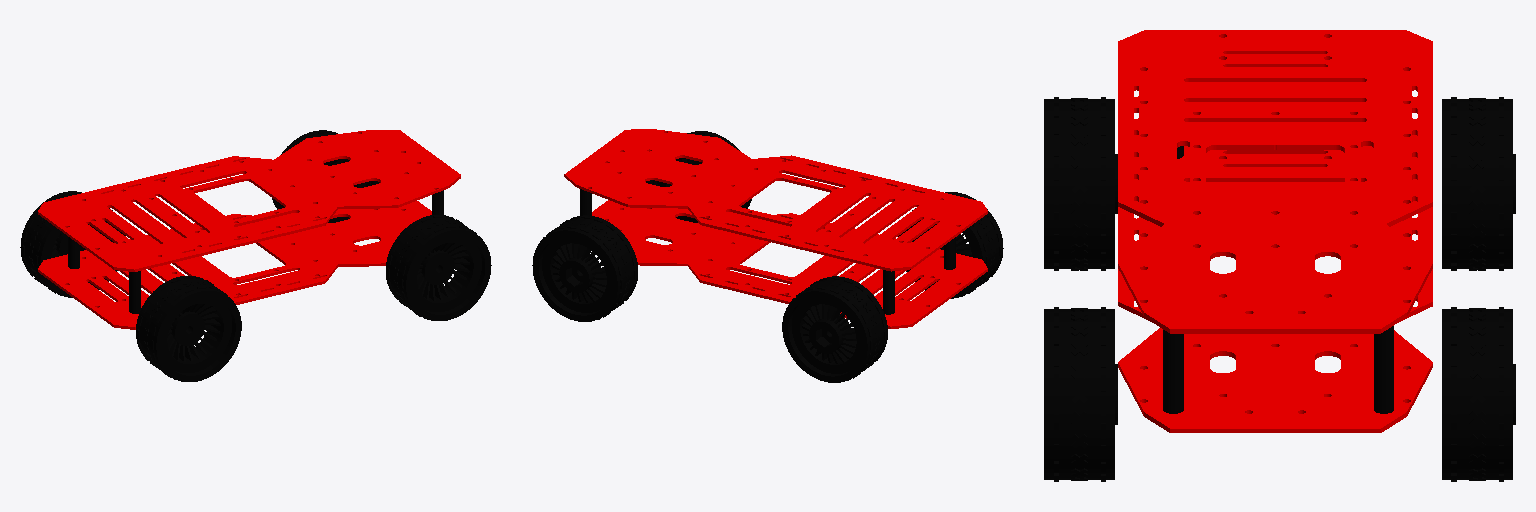
The robot description file, URDF, robot "ackermann_robot":
<?xml version="1.0" ?>
<!-- =================================================================================== -->
<!-- |    This document was autogenerated by xacro from src/ackermann_robot/urdf/ackermann_robot.xacro | -->
<!-- |    EDITING THIS FILE BY HAND IS NOT RECOMMENDED                                 | -->
<!-- =================================================================================== -->
<robot name="ackermann_robot">
  <!-- ===================== -->
  <!-- Real hardware values  -->
  <!-- ===================== -->
  <!-- Materials -->
  <material name="chassis_black">
    <color rgba="1.0 0.0 0.0 1"/>
  </material>
  <material name="wheel_black">
    <color rgba="0.05 0.05 0.05 1"/>
  </material>
  <!-- ===================== -->
  <!-- Base frame            -->
  <!-- ===================== -->
  <!-- Robot center reference -->
  <link name="base_link"/>
  <!-- ===================== -->
  <!-- Chassis               -->
  <!-- ===================== -->
  <link name="chassis_link">
    <inertial>
      <origin xyz="0 0 0"/>
      <mass value="0.126"/>
      <inertia ixx="0.002" ixy="0" ixz="0" iyy="0.002" iyz="0" izz="0.002"/>
    </inertial>
    <!-- Bottom plate -->
    <visual>
      <origin rpy="0 0 1.5708" xyz="-0.0027 -0.001205 0.0385"/>
      <geometry>
        <mesh filename="package://ackermann_robot/meshes/chassis_visual.stl" scale="0.001 0.001 0.001"/>
      </geometry>
      <material name="chassis_black"/>
    </visual>
    <!-- Top plate -->
    <visual>
      <origin rpy="0 0 1.5708" xyz="-0.0027 -0.001205 0.0805"/>
      <geometry>
        <mesh filename="package://ackermann_robot/meshes/chassis_visual.stl" scale="0.001 0.001 0.001"/>
      </geometry>
      <material name="chassis_black"/>
    </visual>
    <!-- Front left standoff -->
    <visual>
      <origin rpy="0 0 0" xyz="0.115 0.040249999999999994 0.0595"/>
      <geometry>
        <cylinder length="0.04" radius="0.004"/>
      </geometry>
      <material name="wheel_black"/>
    </visual>
    <!-- Front right -->
    <visual>
      <origin rpy="0 0 0" xyz="0.115 -0.040249999999999994 0.0595"/>
      <geometry>
        <cylinder length="0.04" radius="0.004"/>
      </geometry>
      <material name="wheel_black"/>
    </visual>
    <!-- Rear left -->
    <visual>
      <origin rpy="0 0 0" xyz="-0.115 0.040249999999999994 0.0595"/>
      <geometry>
        <cylinder length="0.04" radius="0.004"/>
      </geometry>
      <material name="wheel_black"/>
    </visual>
    <!-- Rear right -->
    <visual>
      <origin rpy="0 0 0" xyz="-0.115 -0.040249999999999994 0.0595"/>
      <geometry>
        <cylinder length="0.04" radius="0.004"/>
      </geometry>
      <material name="wheel_black"/>
    </visual>
    <!-- Collision: simple box for stable physics -->
    <collision>
      <origin xyz="0 0 0.001"/>
      <geometry>
        <box size="0.27 0.1205 0.002"/>
      </geometry>
    </collision>
  </link>
  <!-- base → chassis -->
  <joint name="base_to_chassis" type="fixed">
    <parent link="base_link"/>
    <child link="chassis_link"/>
    <origin rpy="0 0 0" xyz="0 0 0.0375"/>
  </joint>
  <!-- ===================== -->
  <!-- Wheel placement       -->
  <!-- ===================== -->
  <!-- Wheel -->
  <link name="rear_left_wheel_link">
    <inertial>
      <mass value="0.05"/>
      <inertia ixx="3e-5" ixy="0" ixz="0" iyy="3e-5" iyz="0" izz="3e-5"/>
    </inertial>
    <visual>
      <origin rpy="1.5708 0 0"/>
      <geometry>
        <mesh filename="package://ackermann_robot/meshes/wheel_visual.stl" scale="0.001 0.001 0.001"/>
      </geometry>
      <material name="wheel_black"/>
    </visual>
    <collision>
      <origin rpy="1.5708 0 0"/>
      <geometry>
        <cylinder length="0.03" radius="0.0375"/>
      </geometry>
    </collision>
  </link>
  <!-- Gazebo friction for wheels -->
  <gazebo reference="rear_left_wheel_link">
    <mu1>0.8</mu1>
    <mu2>0.8</mu2>
    <kp>1000000.0</kp>
    <kd>100.0</kd>
  </gazebo>
  <joint name="rear_left_wheel_joint" type="continuous">
    <parent link="chassis_link"/>
    <child link="rear_left_wheel_link"/>
    <origin xyz="-0.095 0.076 0.0375"/>
    <axis xyz="0 0 1"/>
    <limit effort="10" velocity="10"/>
  </joint>
  <!-- Wheel -->
  <link name="rear_right_wheel_link">
    <inertial>
      <mass value="0.05"/>
      <inertia ixx="3e-5" ixy="0" ixz="0" iyy="3e-5" iyz="0" izz="3e-5"/>
    </inertial>
    <visual>
      <origin rpy="1.5708 0 0"/>
      <geometry>
        <mesh filename="package://ackermann_robot/meshes/wheel_visual.stl" scale="0.001 0.001 0.001"/>
      </geometry>
      <material name="wheel_black"/>
    </visual>
    <collision>
      <origin rpy="1.5708 0 0"/>
      <geometry>
        <cylinder length="0.03" radius="0.0375"/>
      </geometry>
    </collision>
  </link>
  <!-- Gazebo friction for wheels -->
  <gazebo reference="rear_right_wheel_link">
    <mu1>0.8</mu1>
    <mu2>0.8</mu2>
    <kp>1000000.0</kp>
    <kd>100.0</kd>
  </gazebo>
  <joint name="rear_right_wheel_joint" type="continuous">
    <parent link="chassis_link"/>
    <child link="rear_right_wheel_link"/>
    <origin xyz="-0.095 -0.076 0.0375"/>
    <axis xyz="0 0 1"/>
    <limit effort="10" velocity="10"/>
  </joint>
  <!-- steering knuckle -->
  <link name="front_left_steer_link">
    <inertial>
      <origin xyz="0 0 0"/>
      <mass value="0.01"/>
      <inertia ixx="1e-5" ixy="0" ixz="0" iyy="1e-5" iyz="0" izz="1e-5"/>
    </inertial>
  </link>
  <joint name="front_left_steer_joint" type="revolute">
    <parent link="chassis_link"/>
    <child link="front_left_steer_link"/>
    <origin xyz="0.095 0.076 0.0375"/>
    <axis xyz="0 0 1"/>
    <limit effort="10" lower="-0.6" upper="0.6" velocity="2"/>
  </joint>
  <!-- wheel -->
  <link name="front_left_wheel_link">
    <inertial>
      <mass value="0.05"/>
      <inertia ixx="3e-5" ixy="0" ixz="0" iyy="3e-5" iyz="0" izz="3e-5"/>
    </inertial>
    <visual>
      <origin rpy="1.5708 0 0"/>
      <geometry>
        <!-- <cylinder radius="${wheel_radius}" length="${wheel_width}"/> -->
        <mesh filename="package://ackermann_robot/meshes/wheel_visual.stl" scale="0.001 0.001 0.001"/>
      </geometry>
      <material name="wheel_black"/>
    </visual>
    <collision>
      <origin rpy="1.5708 0 0"/>
      <geometry>
        <cylinder length="0.03" radius="0.0375"/>
      </geometry>
    </collision>
  </link>
  <!-- Gazebo friction for wheels -->
  <gazebo reference="front_left_wheel_link">
    <mu1>0.8</mu1>
    <mu2>0.8</mu2>
    <kp>1000000.0</kp>
    <kd>100.0</kd>
  </gazebo>
  <joint name="front_left_wheel_joint" type="continuous">
    <parent link="front_left_steer_link"/>
    <child link="front_left_wheel_link"/>
    <axis xyz="0 0 1"/>
    <limit effort="10" velocity="10"/>
  </joint>
  <!-- steering knuckle -->
  <link name="front_right_steer_link">
    <inertial>
      <origin xyz="0 0 0"/>
      <mass value="0.01"/>
      <inertia ixx="1e-5" ixy="0" ixz="0" iyy="1e-5" iyz="0" izz="1e-5"/>
    </inertial>
  </link>
  <joint name="front_right_steer_joint" type="revolute">
    <parent link="chassis_link"/>
    <child link="front_right_steer_link"/>
    <origin xyz="0.095 -0.076 0.0375"/>
    <axis xyz="0 0 1"/>
    <limit effort="10" lower="-0.6" upper="0.6" velocity="2"/>
  </joint>
  <!-- wheel -->
  <link name="front_right_wheel_link">
    <inertial>
      <mass value="0.05"/>
      <inertia ixx="3e-5" ixy="0" ixz="0" iyy="3e-5" iyz="0" izz="3e-5"/>
    </inertial>
    <visual>
      <origin rpy="1.5708 0 0"/>
      <geometry>
        <!-- <cylinder radius="${wheel_radius}" length="${wheel_width}"/> -->
        <mesh filename="package://ackermann_robot/meshes/wheel_visual.stl" scale="0.001 0.001 0.001"/>
      </geometry>
      <material name="wheel_black"/>
    </visual>
    <collision>
      <origin rpy="1.5708 0 0"/>
      <geometry>
        <cylinder length="0.03" radius="0.0375"/>
      </geometry>
    </collision>
  </link>
  <!-- Gazebo friction for wheels -->
  <gazebo reference="front_right_wheel_link">
    <mu1>0.8</mu1>
    <mu2>0.8</mu2>
    <kp>1000000.0</kp>
    <kd>100.0</kd>
  </gazebo>
  <joint name="front_right_wheel_joint" type="continuous">
    <parent link="front_right_steer_link"/>
    <child link="front_right_wheel_link"/>
    <axis xyz="0 0 1"/>
    <limit effort="10" velocity="10"/>
  </joint>
  <!-- ===================== -->
  <!-- Gazebo plugins        -->
  <!-- ===================== -->
  <!-- Physics properties for chassis -->
  <gazebo reference="chassis_link">
    <mu1>0.2</mu1>
    <mu2>0.2</mu2>
    <kp>1000000.0</kp>
    <kd>100.0</kd>
  </gazebo>
  <!-- Ackermann steering plugin for Gazebo Jetty -->
  <gazebo>
    <plugin filename="gz-sim-ackermann-steering-system" name="gz::sim::systems::AckermannSteering">
      <front_left_joint>front_left_steer_joint</front_left_joint>
      <front_right_joint>front_right_steer_joint</front_right_joint>
      <rear_left_joint>rear_left_wheel_joint</rear_left_joint>
      <rear_right_joint>rear_right_wheel_joint</rear_right_joint>
      <wheel_base>0.19</wheel_base>
      <wheel_separation>0.152</wheel_separation>
      <wheel_radius>0.0375</wheel_radius>
      <!-- Command input -->
      <topic>/model/ackermann_robot/cmd_vel</topic>
      <!-- ODOMETRY OUTPUT -->
      <odom_topic>/model/ackermann_robot/odometry</odom_topic>
      <odom_frame>odom</odom_frame>
      <base_frame>base_link</base_frame>
      <publish_odom>true</publish_odom>
      <publish_tf>true</publish_tf>
      <odom_publish_freqency>30</odom_publish_freqency>
    </plugin>
  </gazebo>
  <gazebo>
    <plugin filename="gz-sim-joint-state-publisher-system" name="gz::sim::systems::JointStatePublisher"/>
  </gazebo>
</robot>

--- Render facts (derived) ---
The picture shows the robot from 3 angles, left to right: view 1: azimuth 30°, elevation 25°; view 2: azimuth 150°, elevation 25°; view 3: azimuth 270°, elevation 25°; orthographic projection.
Robot: ackermann_robot — 8 links, 7 joints (2 revolute, 4 continuous, 1 fixed); root link base_link; default pose: every joint at zero.
Visible links, largest first — view 1: chassis_link, rear_right_wheel_link, front_right_wheel_link, rear_left_wheel_link, front_left_wheel_link; view 2: chassis_link, rear_left_wheel_link, front_left_wheel_link, rear_right_wheel_link; view 3: chassis_link, front_left_wheel_link, front_right_wheel_link, rear_left_wheel_link, rear_right_wheel_link.
Link boxes in pixels (x1,y1,x2,y2): chassis_link: (38,130,460,329); rear_right_wheel_link: (136,276,241,381); front_right_wheel_link: (386,215,491,320); rear_left_wheel_link: (20,191,125,297); front_left_wheel_link: (272,130,370,222); chassis_link: (564,129,987,328); rear_left_wheel_link: (782,276,887,382); front_left_wheel_link: (532,215,637,321); rear_right_wheel_link: (898,192,1003,298); chassis_link: (1118,30,1432,432); front_left_wheel_link: (1442,307,1515,481); front_right_wheel_link: (1044,307,1117,481); rear_left_wheel_link: (1442,97,1515,270); rear_right_wheel_link: (1044,97,1117,270).
Bounding box of the posed robot: 0.27 × 0.18 × 0.0783 m (x, y, z).
Meshes: 2 distinct files referenced, 6 mesh visuals loaded (2 binary STL).